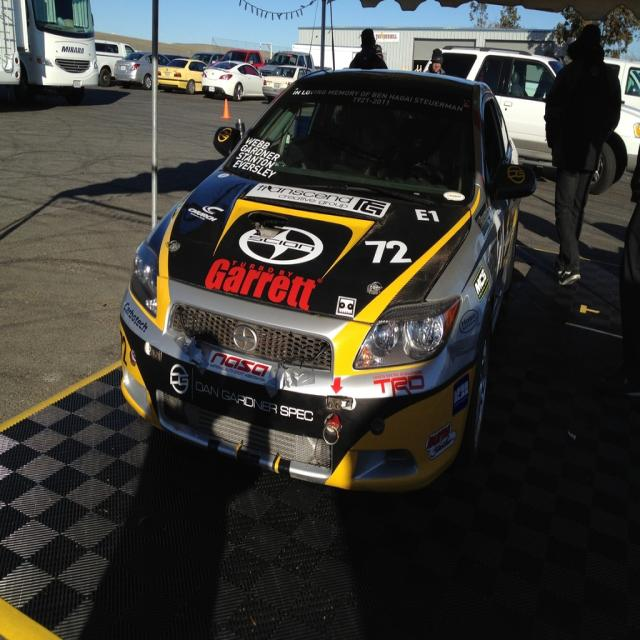car: (115, 64, 535, 505)
